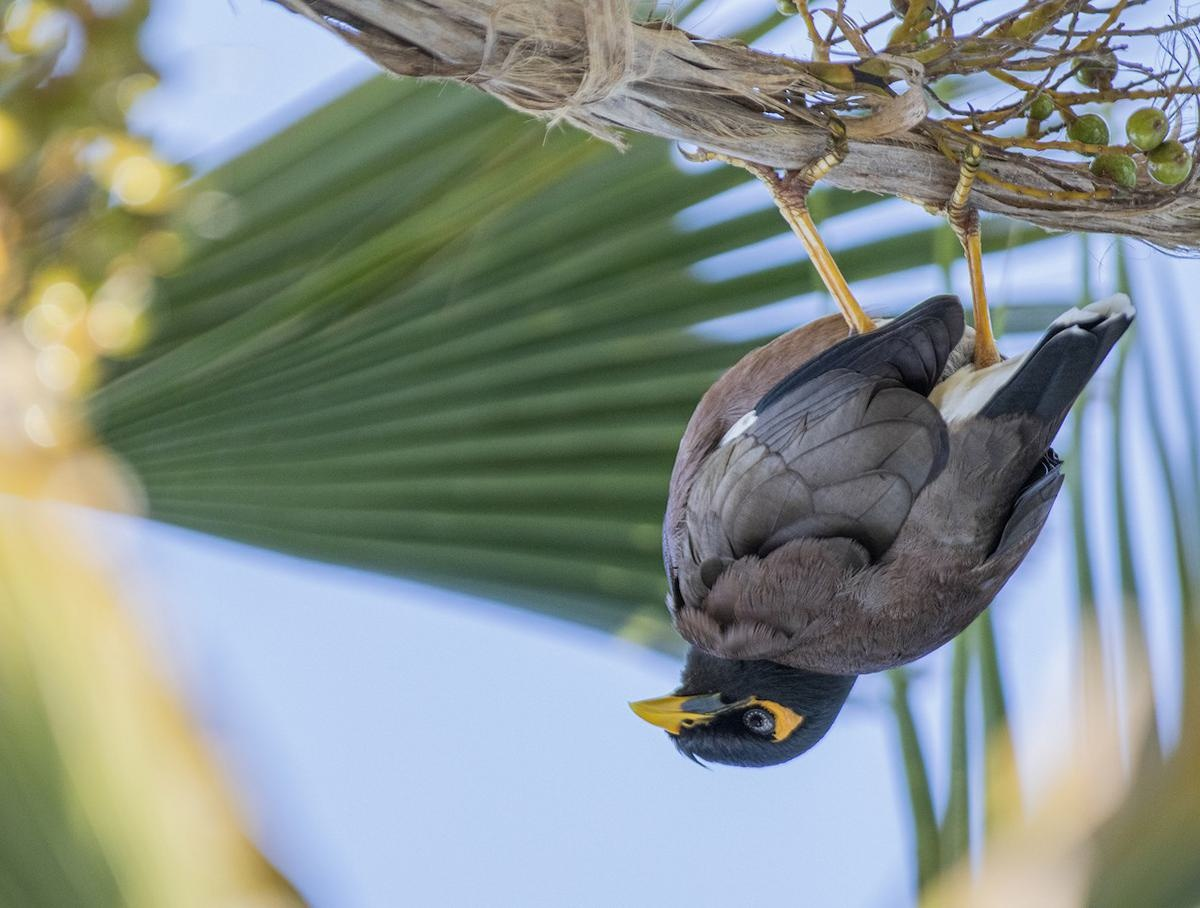myna: (596, 158, 1107, 794)
